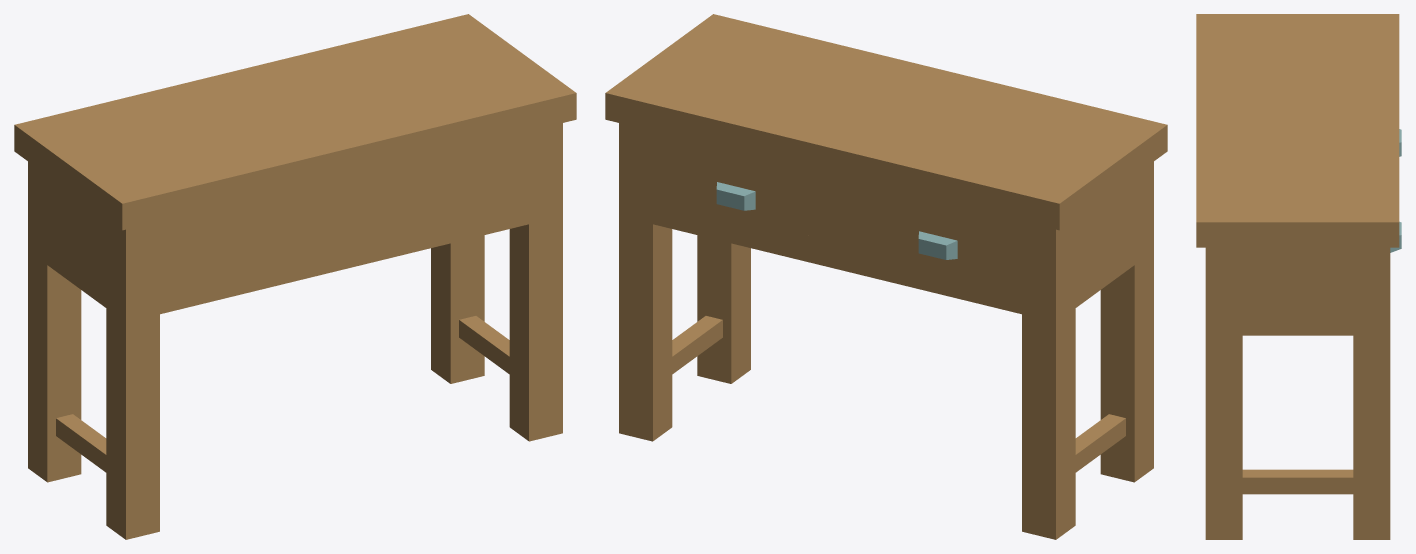
Rendered from sideTableDrawers.glb.
The picture shows the model from 3 angles, left to right: view 1: azimuth 30°, elevation 25°; view 2: azimuth 150°, elevation 25°; view 3: azimuth 270°, elevation 25°; orthographic projection. The views are drawn at different scales.
Visible parts, largest first — view 1: sideTableDrawers; view 2: sideTableDrawers; view 3: sideTableDrawers.
Part boxes in pixels (x1,y1,x2,y2): sideTableDrawers: (14,14,576,539); sideTableDrawers: (605,14,1167,539); sideTableDrawers: (1196,14,1401,539).
Size of the model in its own units: 1.07 by 0.7688 by 0.4446.
